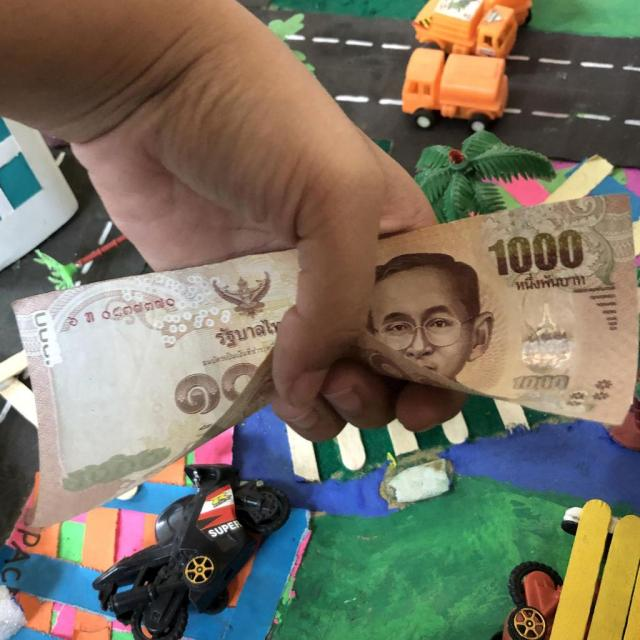THAI1000: (14, 251, 299, 527), (359, 196, 638, 420)
